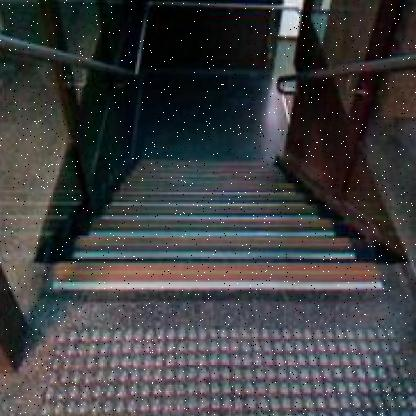stair_down: (46, 196, 387, 313)
